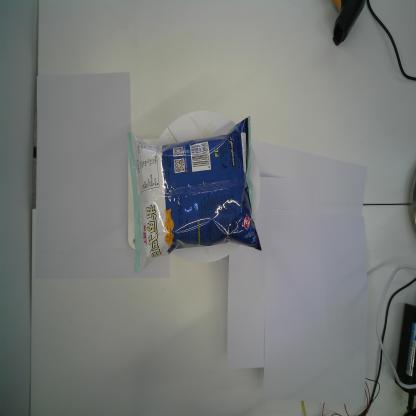Puffed Food: (127, 114, 263, 274)
